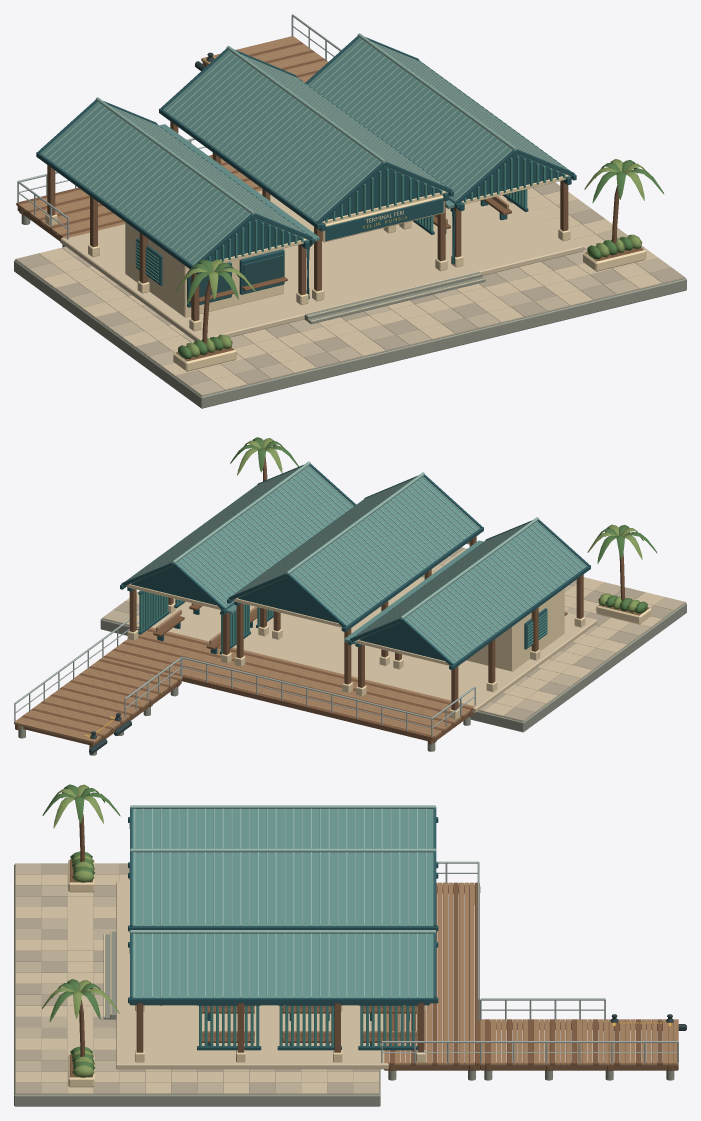
The picture shows the model from 3 angles, top to bottom: view 1: azimuth 30°, elevation 25°; view 2: azimuth 150°, elevation 25°; view 3: azimuth 270°, elevation 25°; orthographic projection. The views are drawn at different scales.
Visible parts, largest first — view 1: Shore Approach, Terminal Zinc Roof, Battened Gable Screens, Ticket Office and Seating, Shore Planting, Terminal Timber Frame, Boardwalk and Piles, Terminal Lettering, Jetty Safety; view 2: Terminal Zinc Roof, Shore Approach, Boardwalk and Piles, Battened Gable Screens, Terminal Timber Frame, Ticket Office and Seating, Jetty Safety, Shore Planting, Waiting Screens; view 3: Terminal Zinc Roof, Shore Approach, Boardwalk and Piles, Waiting Screens, Shore Planting, Jetty Safety, Terminal Timber Frame, Ticket Office and Seating.
Boxes of the visible parts, <box> form: Shore Approach: <box>14,182,686,408</box>; Terminal Zinc Roof: <box>36,33,576,298</box>; Battened Gable Screens: <box>206,153,570,262</box>; Ticket Office and Seating: <box>125,196,511,317</box>; Shore Planting: <box>173,159,664,371</box>; Terminal Timber Frame: <box>45,121,571,331</box>; Boardwalk and Piles: <box>16,36,328,247</box>; Terminal Lettering: <box>322,195,444,242</box>; Jetty Safety: <box>17,14,341,239</box>; Terminal Zinc Roof: <box>120,461,590,670</box>; Shore Approach: <box>100,547,686,732</box>; Boardwalk and Piles: <box>14,627,474,755</box>; Battened Gable Screens: <box>126,566,449,665</box>; Terminal Timber Frame: <box>127,536,585,719</box>; Ticket Office and Seating: <box>153,588,567,671</box>; Jetty Safety: <box>14,612,475,754</box>; Shore Planting: <box>230,437,657,624</box>; Waiting Screens: <box>138,590,273,654</box>; Terminal Zinc Roof: <box>128,805,438,1003</box>; Shore Approach: <box>14,863,388,1106</box>; Boardwalk and Piles: <box>384,882,678,1080</box>; Waiting Screens: <box>197,1005,417,1050</box>; Shore Planting: <box>42,784,120,1087</box>; Jetty Safety: <box>381,861,686,1062</box>; Terminal Timber Frame: <box>129,821,429,1062</box>; Ticket Office and Seating: <box>202,1005,417,1045</box>.
Size of the model in its own units: 24.5 by 7.03 by 30.1.
